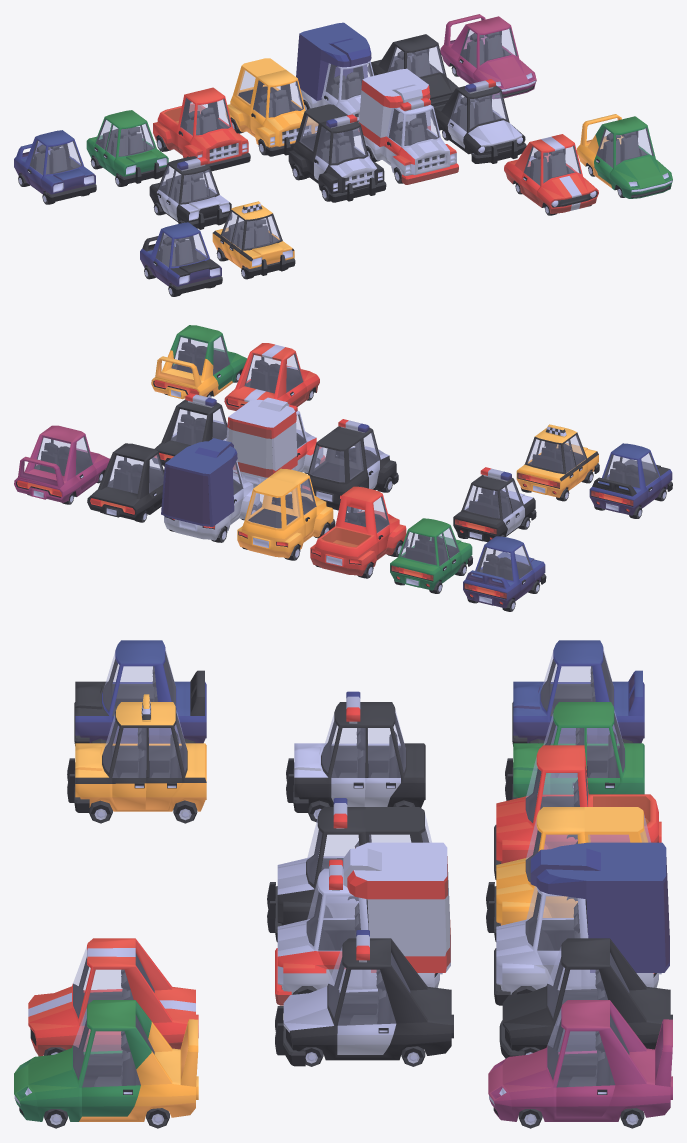
3 renders of one model, top to bottom at view 1: azimuth 30°, elevation 25°; view 2: azimuth 150°, elevation 25°; view 3: azimuth 270°, elevation 25°, orthographic. The views are drawn at different scales.
Visible parts, largest first — view 1: Car03_1_Racing, Car02_1, Car02_2_Police, Car02_2, Car03_1_Police, Car03_2_Racing, Car02_3_Ambulance, Car02_3_AdB, Car03_2, Car02_3_AdB.001, Car01_2, Car01_1_Carbon (+30 smaller); view 2: Car02_3_AdB, Car02_1, Car02_3_AdB.001, Car02_2, Car03_1, Car03_2, Car03_2_Racing, Car03_1_Racing, Car01_2, Car01_2_Taxi, Car01_2_Police, Car02_2_Police (+25 smaller); view 3: Car02_3_AdB, Car03_1_Police, Car03_2, Car03_2_Racing, Car02_3_AdB.001, Car03_1_Racing, Car03_1, Car01_2_Taxi, Car01_2_Police, Car02_1, Car01_1_Carbon, Car01_1 (+46 smaller).
Part boxes in pixels (bbox=[...]): Car03_1_Racing: bbox=[504, 134, 598, 214]; Car02_1: bbox=[153, 87, 248, 164]; Car02_2_Police: bbox=[288, 121, 384, 193]; Car02_2: bbox=[225, 70, 318, 147]; Car03_1_Police: bbox=[430, 85, 525, 155]; Car03_2_Racing: bbox=[576, 116, 670, 195]; Car02_3_Ambulance: bbox=[361, 104, 456, 175]; Car02_3_AdB: bbox=[295, 22, 371, 100]; Car03_2: bbox=[440, 16, 534, 83]; Car02_3_AdB.001: bbox=[358, 68, 430, 146]; Car01_2: bbox=[86, 110, 168, 176]; Car01_1_Carbon: bbox=[140, 222, 221, 286]; Car02_3_AdB: bbox=[161, 438, 237, 526]; Car02_1: bbox=[310, 486, 406, 576]; Car02_3_AdB.001: bbox=[226, 397, 297, 479]; Car02_2: bbox=[237, 468, 333, 558]; Car03_1: bbox=[87, 443, 164, 520]; Car03_2: bbox=[14, 425, 108, 502]; Car03_2_Racing: bbox=[151, 325, 246, 399]; Car03_1_Racing: bbox=[224, 343, 319, 410]; Car01_2: bbox=[390, 518, 472, 590]; Car01_2_Taxi: bbox=[516, 426, 598, 497]; Car01_2_Police: bbox=[453, 474, 535, 542]; Car02_2_Police: bbox=[300, 426, 396, 511]; Car02_3_AdB: bbox=[530, 842, 669, 972]; Car03_1_Police: bbox=[283, 938, 453, 1060]; Car03_2: bbox=[502, 1000, 672, 1121]; Car03_2_Racing: bbox=[28, 1000, 198, 1121]; Car02_3_AdB.001: bbox=[343, 842, 450, 972]; Car03_1_Racing: bbox=[28, 938, 198, 1056]; Car03_1: bbox=[502, 938, 672, 1051]; Car01_2_Taxi: bbox=[75, 702, 206, 811]; Car01_2_Police: bbox=[294, 702, 425, 807]; Car02_1: bbox=[496, 745, 661, 863]; Car01_1_Carbon: bbox=[75, 640, 206, 743]; Car01_1: bbox=[513, 640, 644, 743].
Bounding box in the file's own units: 26.64 × 4.09 × 18.06.
9 materials, 9 textured.
